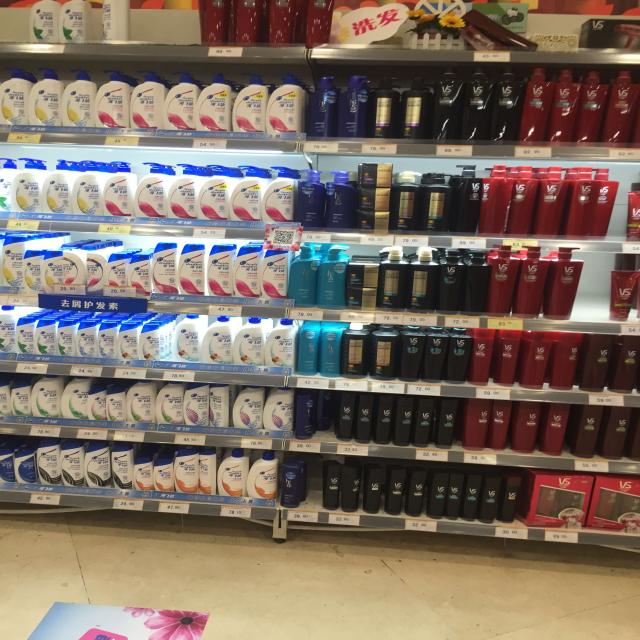void: (582, 252, 610, 330), (550, 4, 581, 61), (424, 2, 452, 60), (171, 0, 198, 59), (146, 0, 171, 60), (397, 1, 422, 60), (0, 0, 27, 53), (371, 0, 393, 63), (302, 456, 321, 522), (128, 0, 146, 63), (351, 1, 370, 60), (334, 0, 350, 61)
